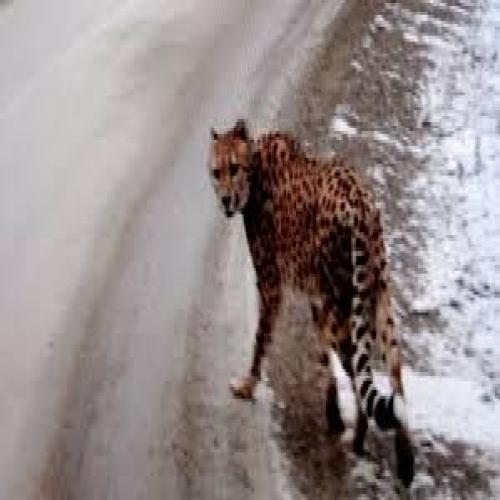cheetah-endangered: (208, 125, 402, 468)
